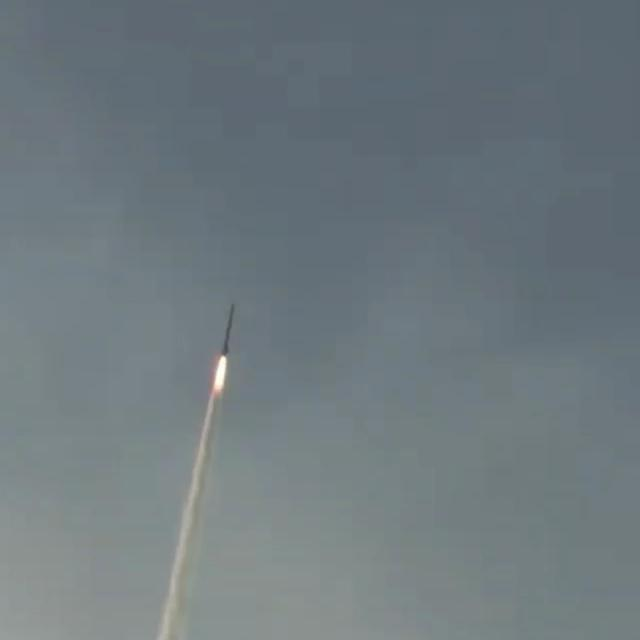smoke_trail_with_rocket: (156, 304, 236, 640)
